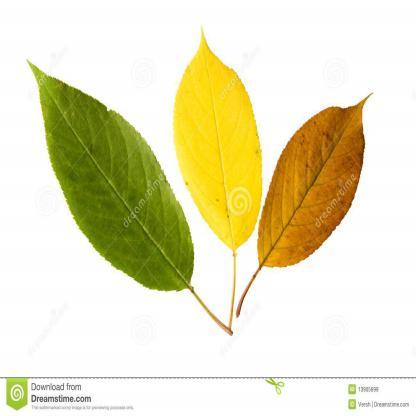Cherry leaf: (20, 54, 198, 305), (255, 58, 376, 314), (176, 26, 268, 258)
